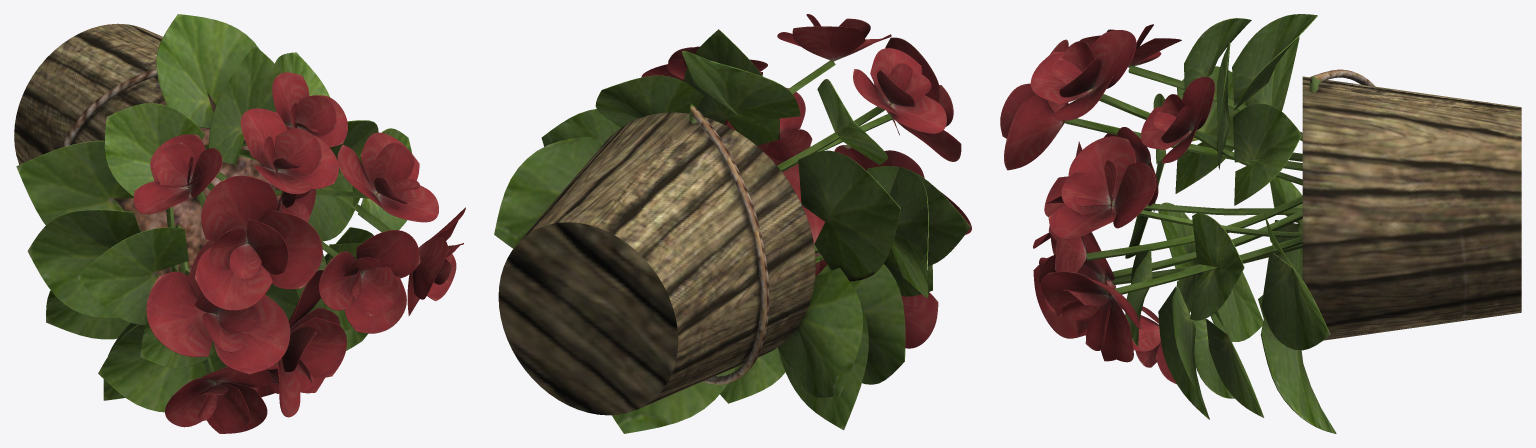
File: 10435_Begonia_v3_L3.obj
3 renders of one model, left to right at view 1: azimuth 30°, elevation 25°; view 2: azimuth 150°, elevation 25°; view 3: azimuth 270°, elevation 25°, orthographic. The views are drawn at different scales.
Parts seen in each view (by area): view 1: 10435_Begonia_v002; view 2: 10435_Begonia_v002; view 3: 10435_Begonia_v002.
Boxes of the visible parts, bbox=[...] form: 10435_Begonia_v002: bbox=[14, 14, 465, 433]; 10435_Begonia_v002: bbox=[494, 14, 971, 433]; 10435_Begonia_v002: bbox=[1000, 14, 1521, 433].
Size of the model in its own units: 35.52 by 32.81 by 40.67.
1 material, 1 textured.
